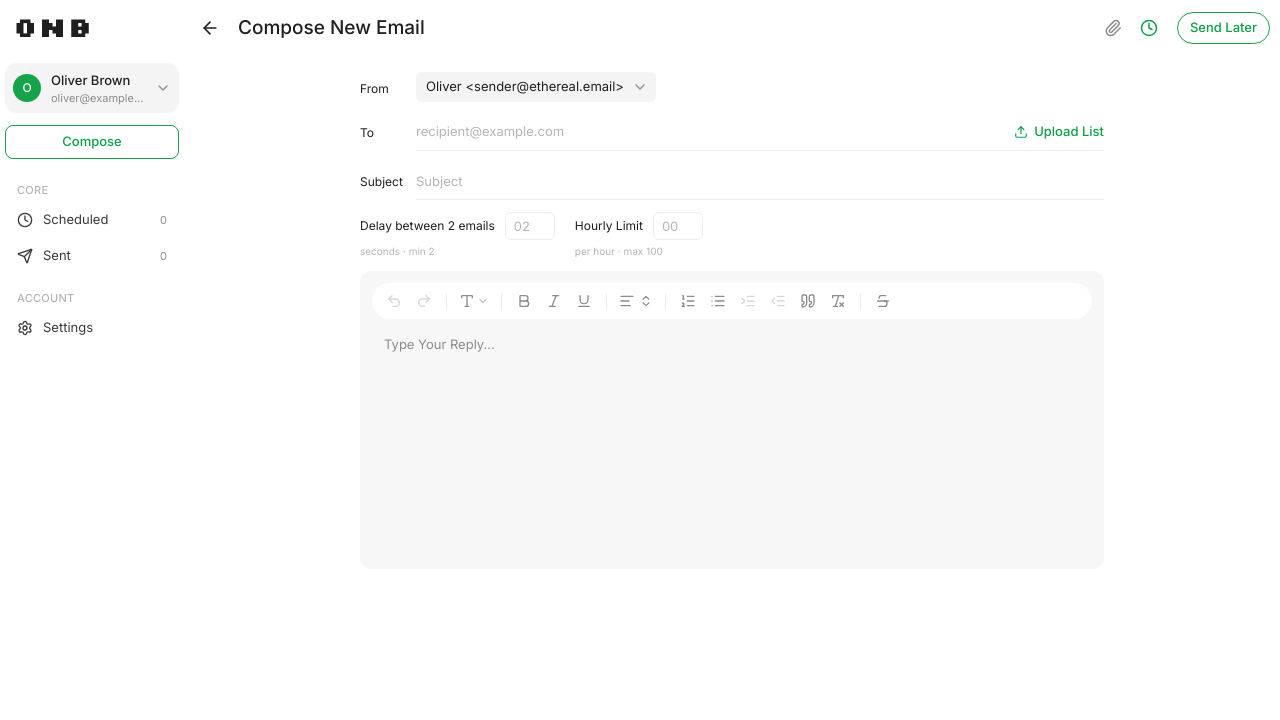
it: compose › enforces the server minimum delay and hourly-limit bounds
expect the heading "Compose New Email" is shown: met, box [238,16,425,39]
Step 1. Type "1" into the field labelled "Delay between 2 emails" → (530,226), box [505,212,555,240]
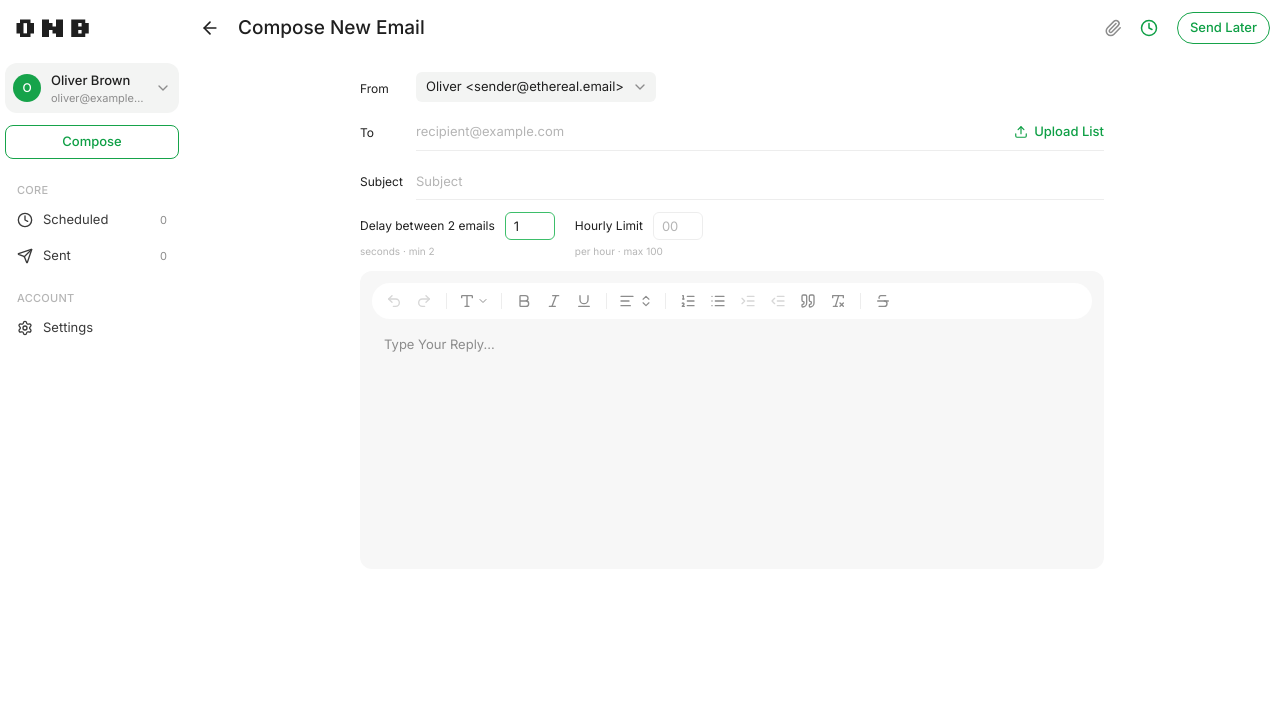
Step 2. Type "500" into the field labelled "Hourly Limit" → (678,226), box [653,212,703,240]
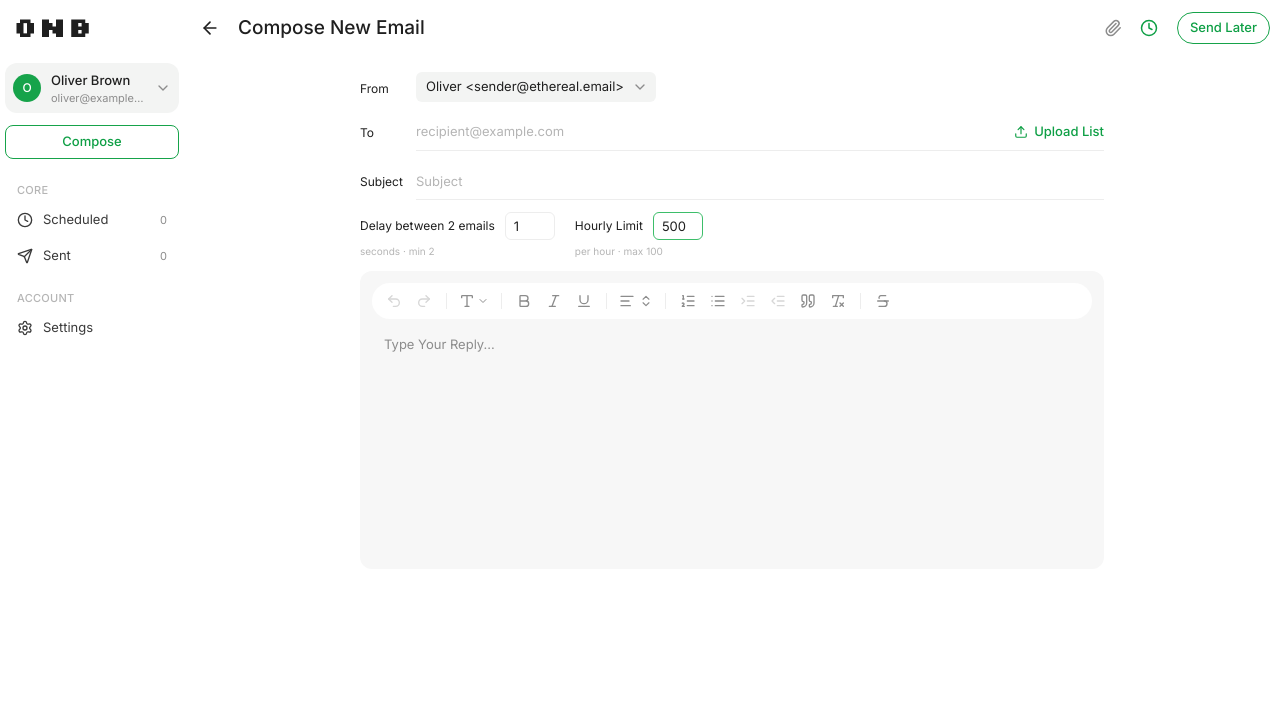
Step 3. Click the button "Send Later" → (1223,28), box [1177,12,1270,44]
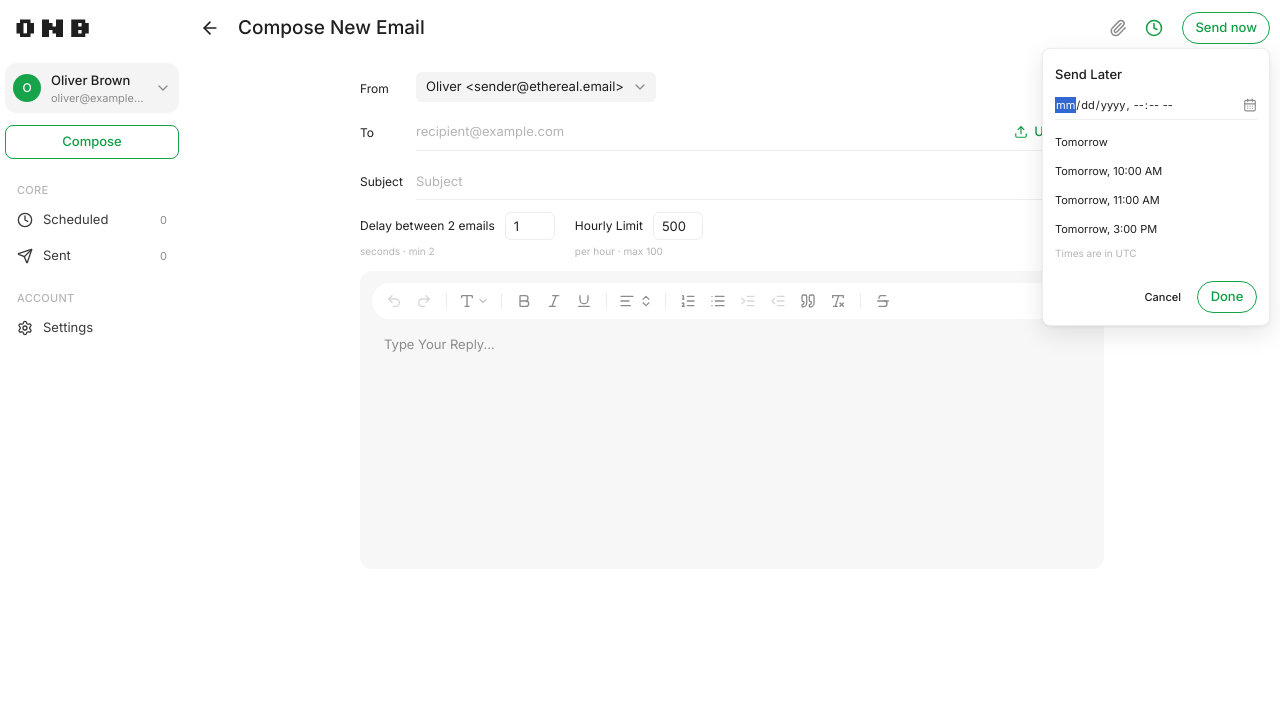
Step 4. Click the button "Send now" → (1226,28), box [1182,12,1270,44]
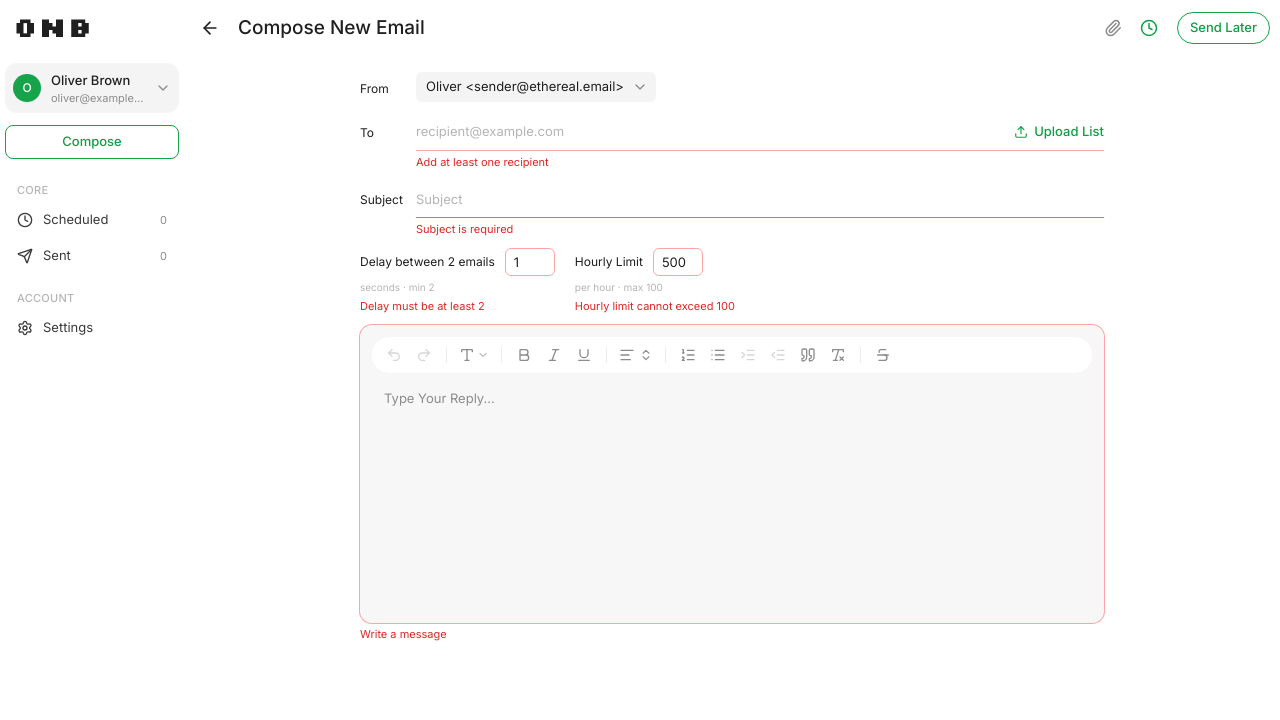
expect the text "Delay must be at least 2" is shown: met, box [360,299,485,313]
expect the text "Hourly limit cannot exceed 100" is shown: met, box [575,299,735,313]
